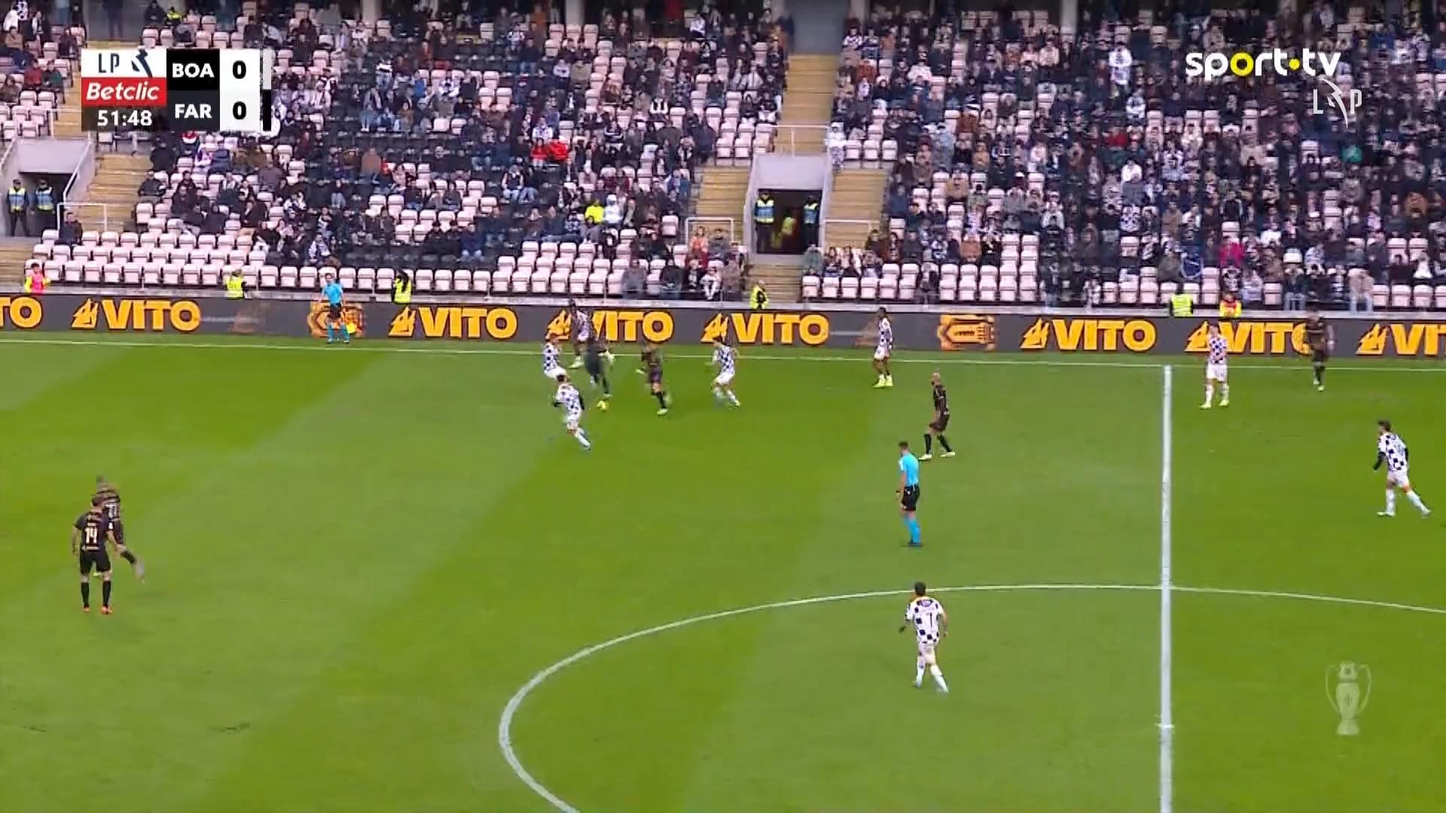ball: (596, 399, 607, 410)
player: (1371, 418, 1432, 517), (898, 580, 950, 693), (92, 474, 144, 581), (69, 497, 112, 614), (919, 370, 956, 460), (551, 371, 591, 451), (1300, 308, 1334, 391), (1198, 321, 1230, 409), (635, 340, 671, 416), (581, 331, 615, 406), (706, 333, 740, 407), (869, 306, 895, 388), (540, 330, 568, 403), (565, 298, 592, 368)
referee: (895, 440, 922, 547), (319, 271, 350, 343)
